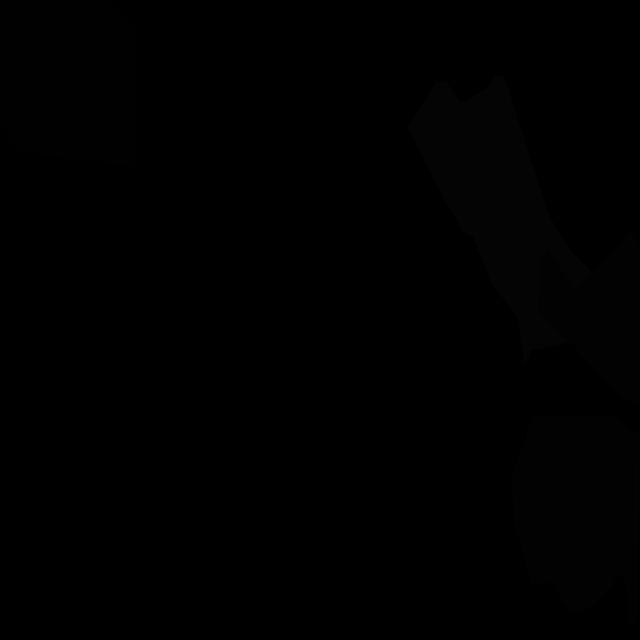cardboard: (512, 416, 640, 627), (538, 230, 640, 409)
rigid_plastic: (0, 0, 138, 167)
soft_plastic: (408, 75, 593, 365)
